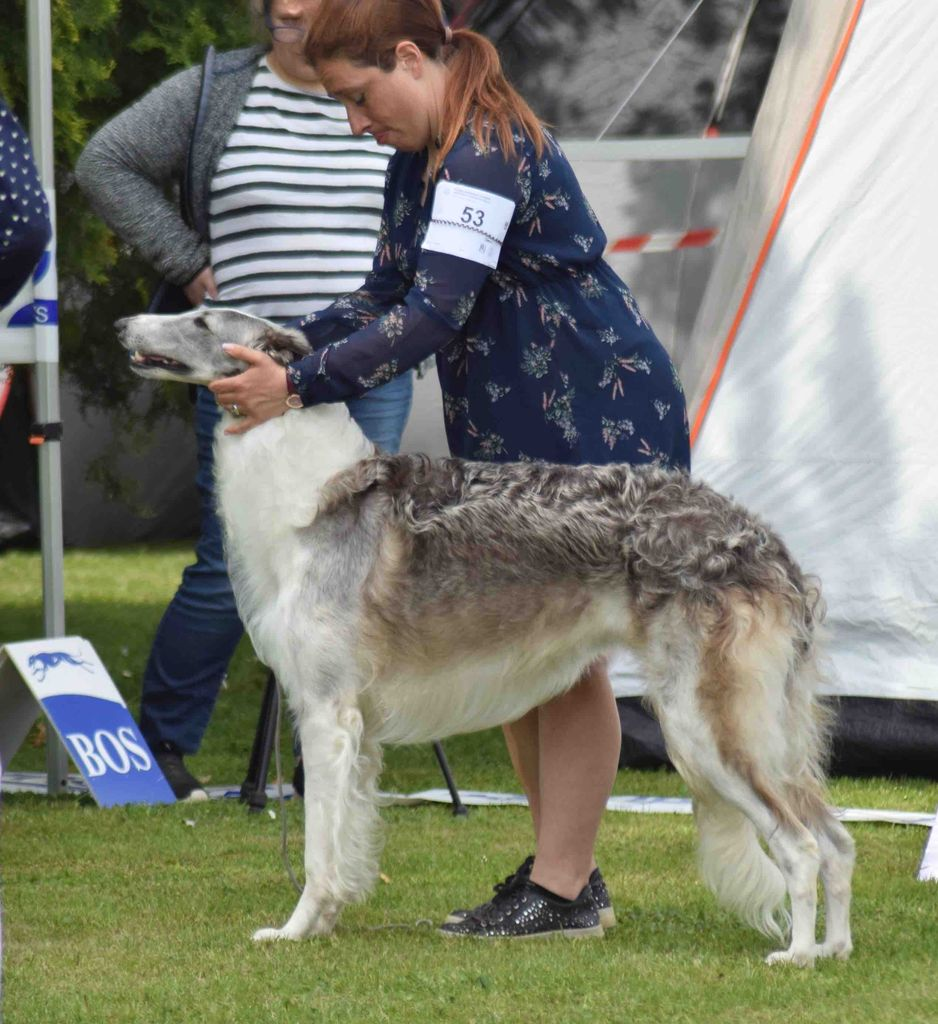borzoi: (110, 301, 873, 979)
